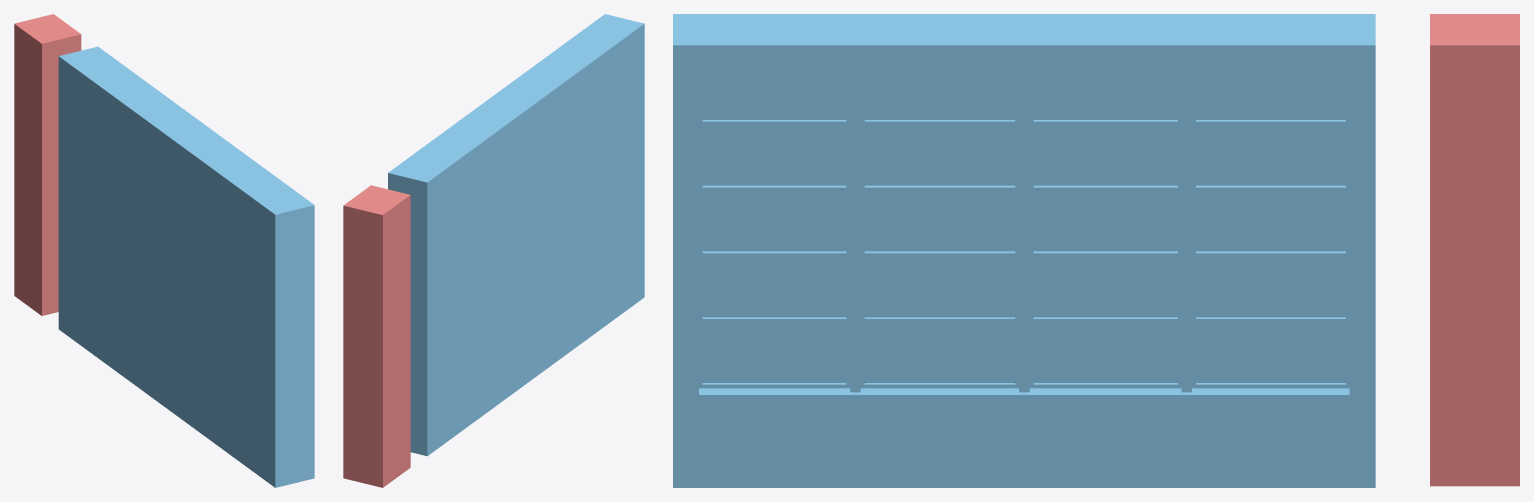
Rendered from Mesh_MurResto.FBX.
3 renders of one model, left to right at view 1: azimuth 30°, elevation 25°; view 2: azimuth 150°, elevation 25°; view 3: azimuth 270°, elevation 25°, orthographic. The views are drawn at different scales.
Parts seen in each view (by area): view 1: MurResto, Coin; view 2: MurResto, Coin; view 3: MurResto, Coin.
Part boxes in pixels (x1,y1,x2,y2): MurResto: [58, 46, 314, 487]; Coin: [14, 14, 81, 315]; MurResto: [388, 14, 644, 456]; Coin: [343, 185, 410, 487]; MurResto: [673, 14, 1375, 487]; Coin: [1430, 14, 1519, 486].
Bounding box in the file's own units: 11.65 × 77.1 × 134.
